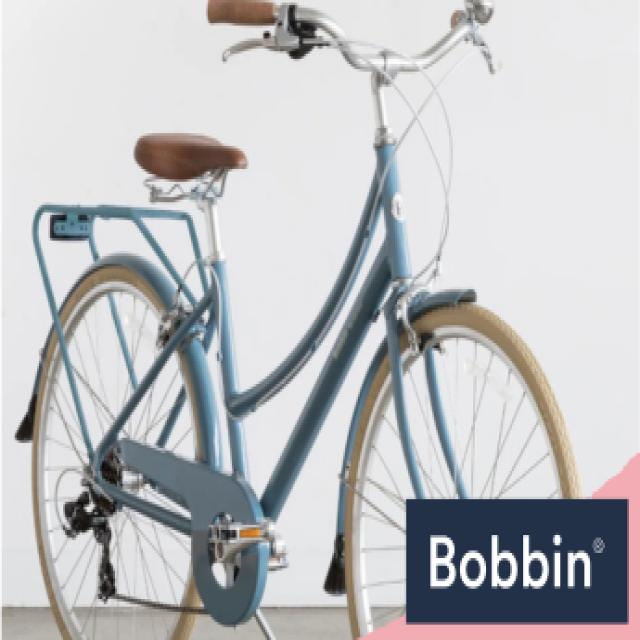urban-bike: (21, 0, 584, 640)
